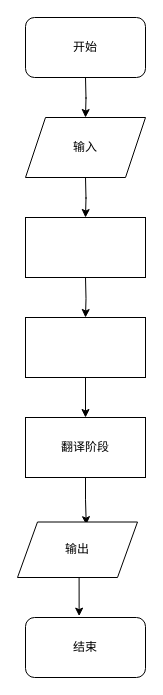
Some shapes in this 163 by 695 pixel diagram are drawn without their labels. The shapes that lost their labels are listed below. From the top down, each one's centre as x and y in pixels, then its label:
At (x=85, y=247): "预处理阶段".
At (x=85, y=347): "分析阶段".
